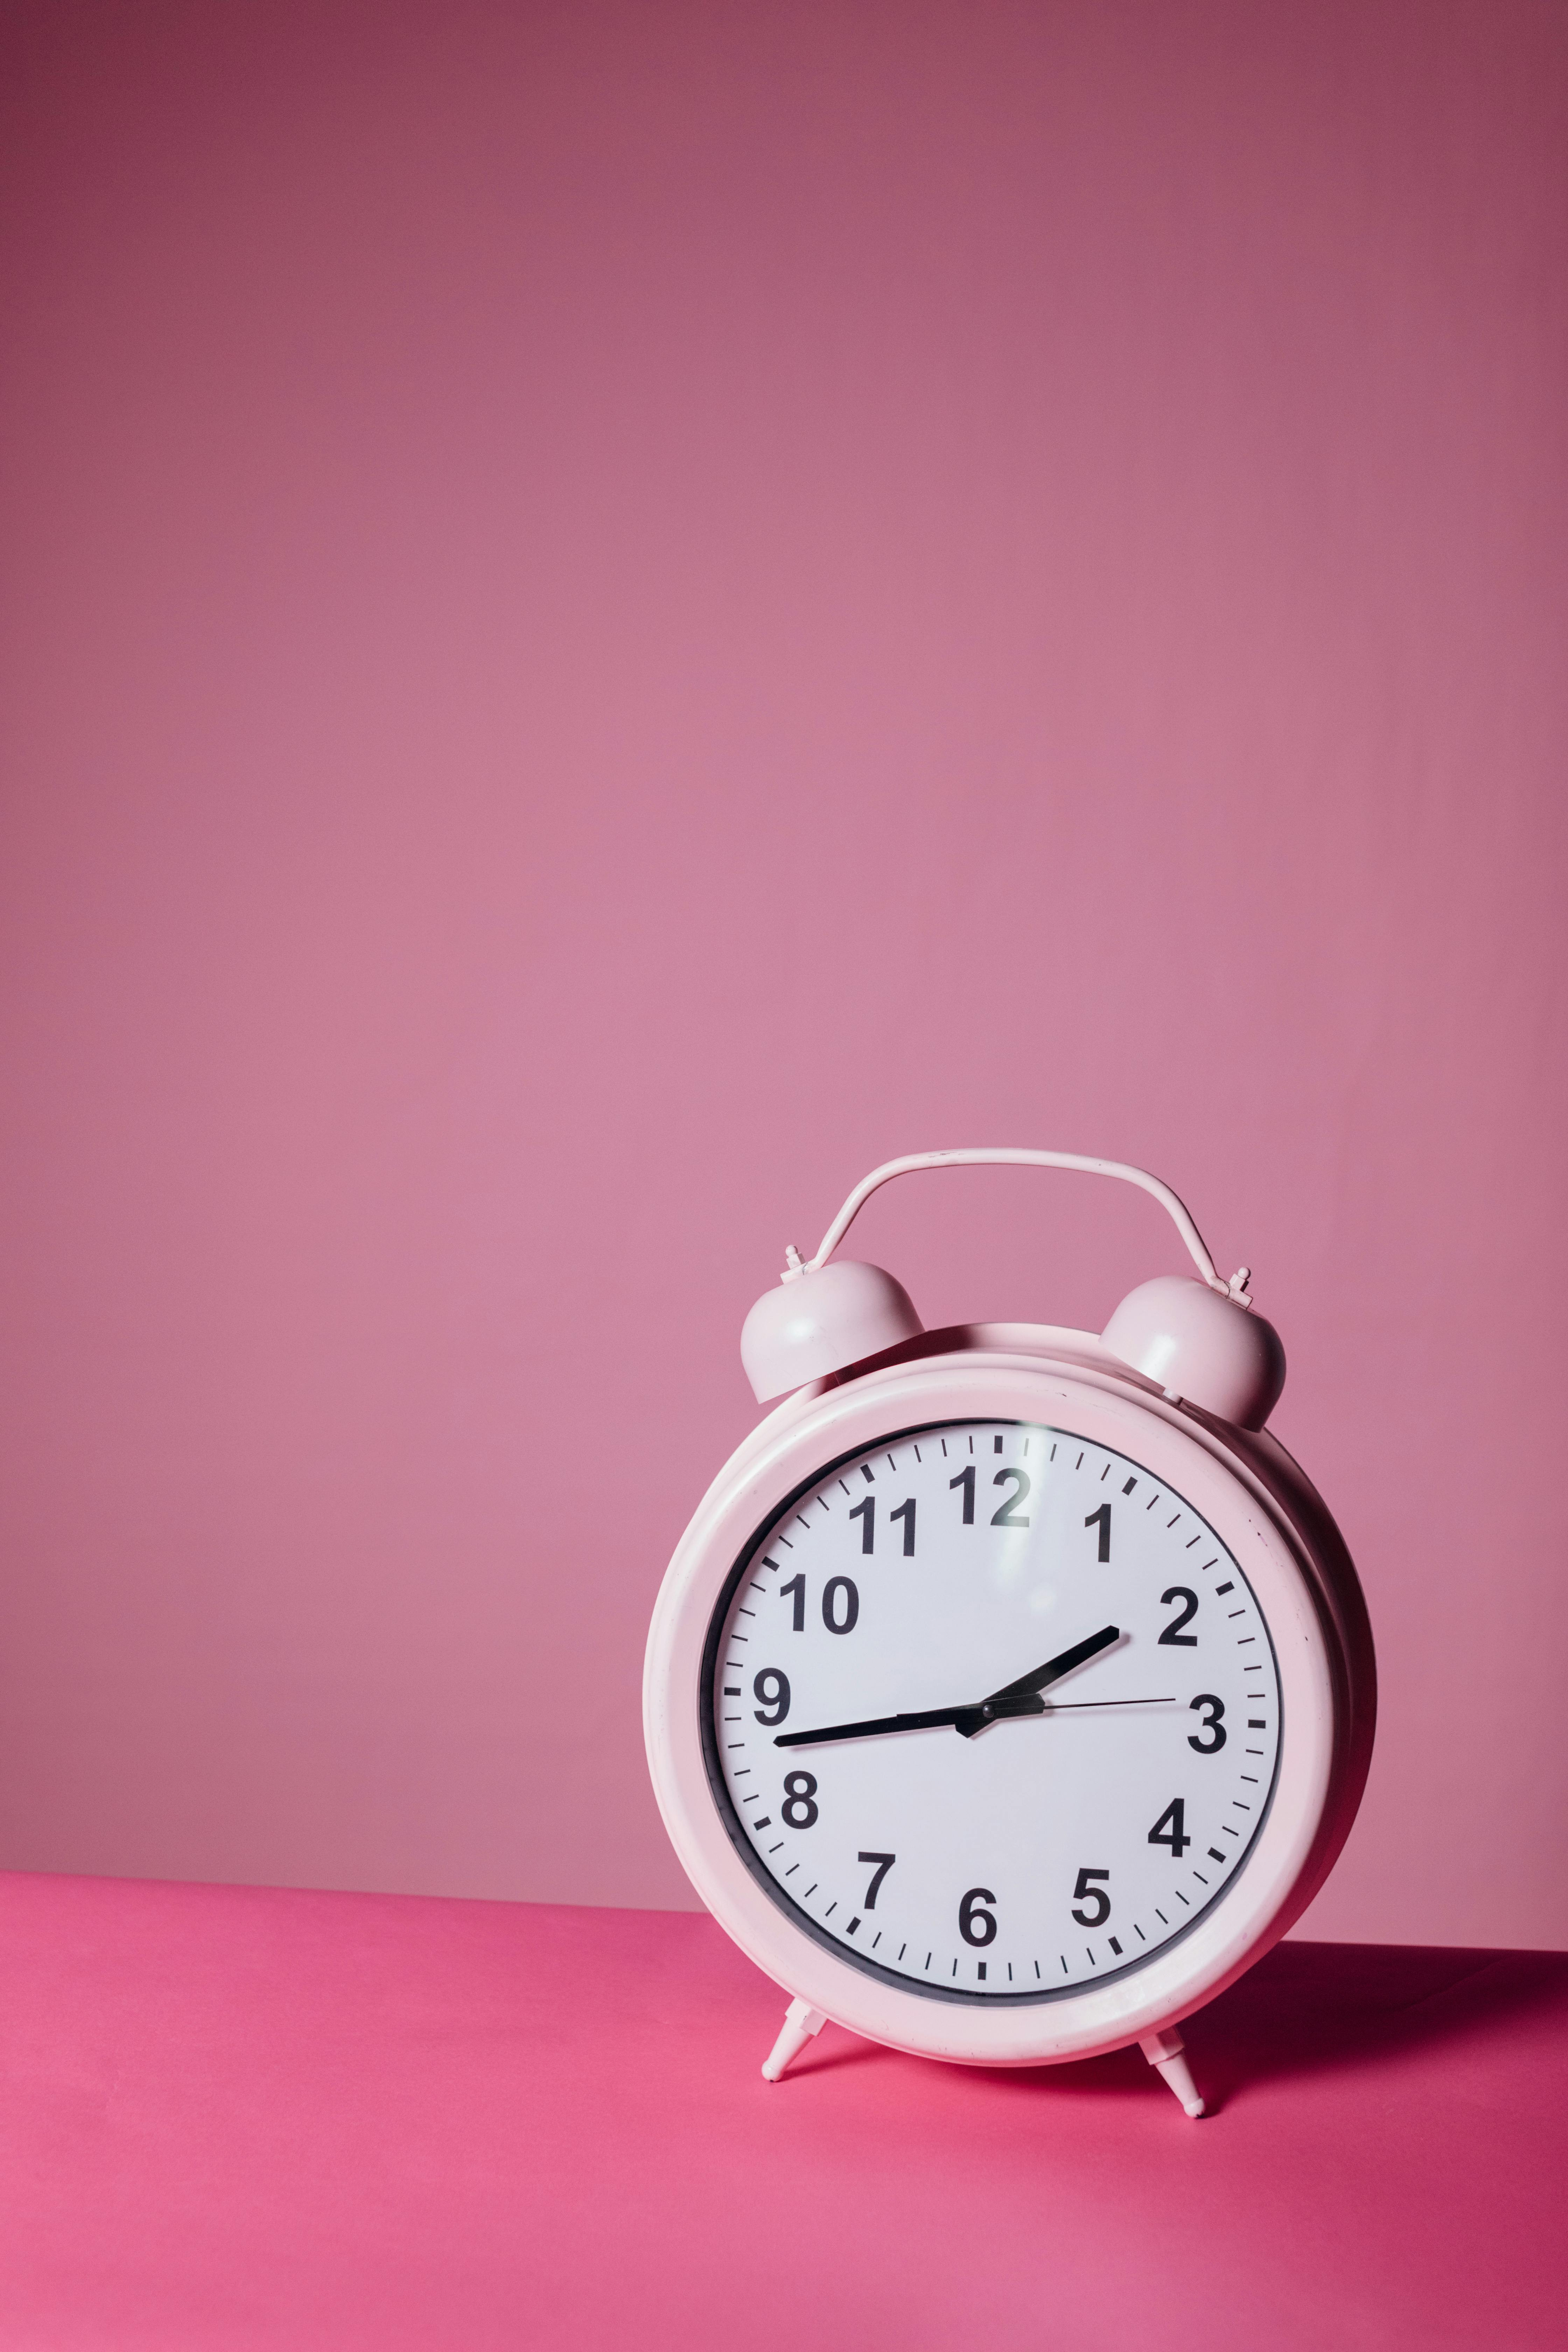clock: (530, 1060, 1470, 2152)
